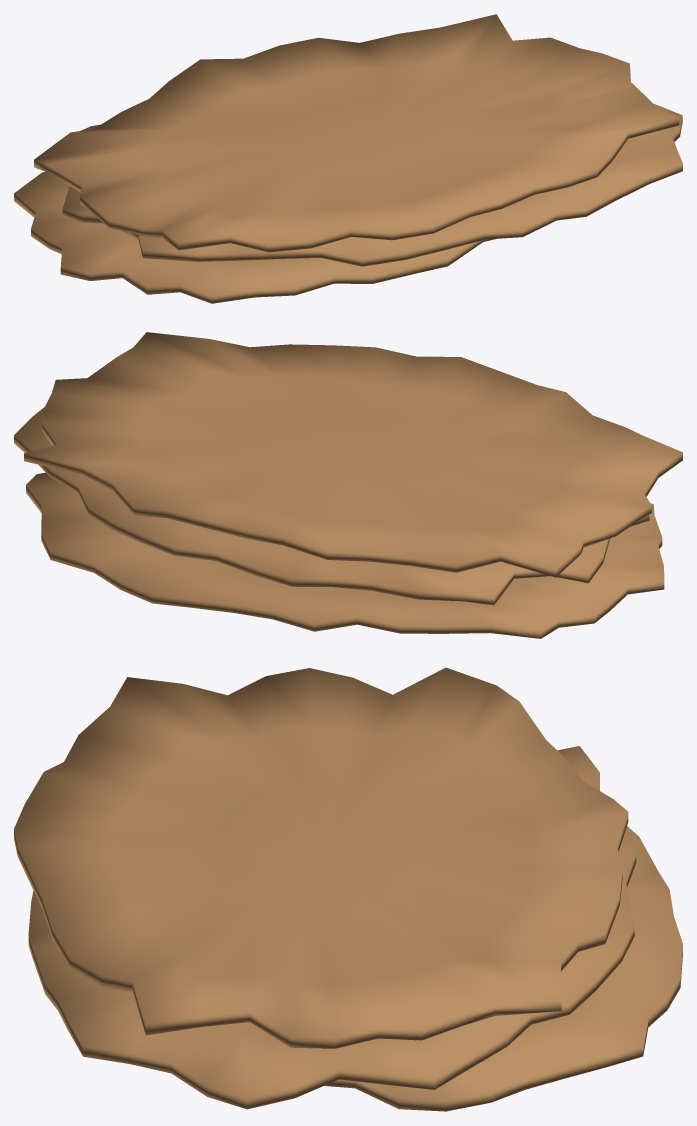
Rendered from w3d_pelt_cured_hide_m.glb.
3 renders of one model, top to bottom at view 1: azimuth 30°, elevation 25°; view 2: azimuth 150°, elevation 25°; view 3: azimuth 270°, elevation 25°, orthographic. The views are drawn at different scales.
Visible parts, largest first — view 1: w3d_pelt_cured_hide_m; view 2: w3d_pelt_cured_hide_m; view 3: w3d_pelt_cured_hide_m.
Boxes of the visible parts, box(x1,y1,x2,y2) form: w3d_pelt_cured_hide_m: box(14, 14, 682, 303); w3d_pelt_cured_hide_m: box(14, 332, 682, 638); w3d_pelt_cured_hide_m: box(14, 667, 682, 1111).
Bounding box in the file's own units: 0.7307 × 0.0885 × 0.5119.
